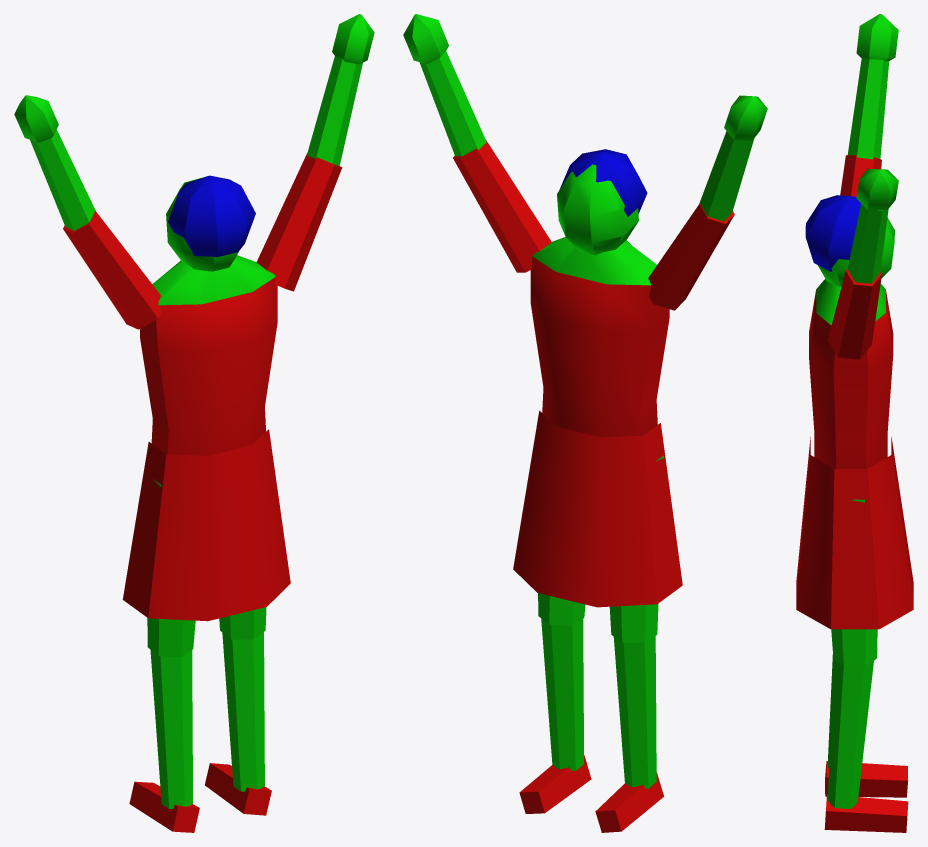
Rendered from stand_cheer_both_arms_lod0.glb.
3 views of the same model, side by side, from view 1: azimuth 30°, elevation 25°; view 2: azimuth 150°, elevation 25°; view 3: azimuth 270°, elevation 25° (orthographic). The views are drawn at different scales.
Parts seen in each view (by area): view 1: OUT_0; view 2: OUT_0; view 3: OUT_0.
Boxes of the visible parts, x1,y1,x2,y2 form: OUT_0: (14,14,374,832); OUT_0: (403,14,767,832); OUT_0: (796,14,913,832).
Size of the model in its own units: 0.981 by 2 by 0.296.
